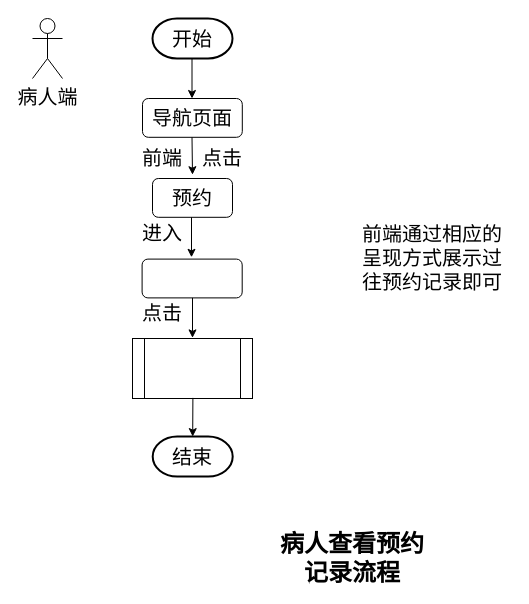
This 529x604 diagram has some shape labels left out. The shapes that lost their labels are listed below. From the top down, each one's centre as x and y in pixels, then its label:
the point at 191,278: 预约页面
the point at 192,368: 查看预约 记录
